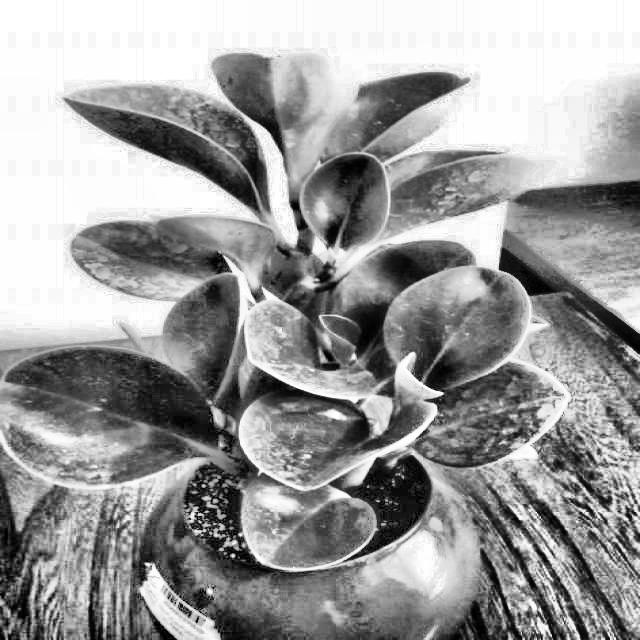plants: (44, 73, 546, 639)
